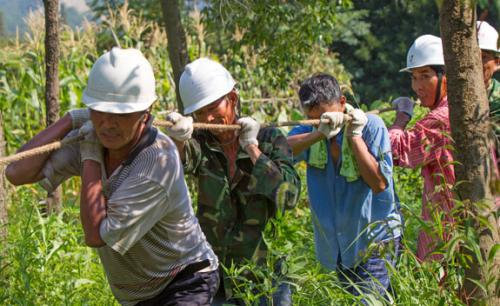gloves: (68, 107, 101, 160), (318, 111, 351, 140), (164, 112, 194, 142), (236, 116, 260, 150), (346, 108, 368, 137), (391, 96, 415, 119)
hard-hat: (80, 47, 158, 115), (178, 57, 236, 116), (398, 34, 445, 73), (476, 20, 500, 53)
person: (5, 46, 221, 305), (158, 56, 301, 305), (386, 33, 500, 304), (285, 71, 403, 306), (387, 33, 458, 273)
